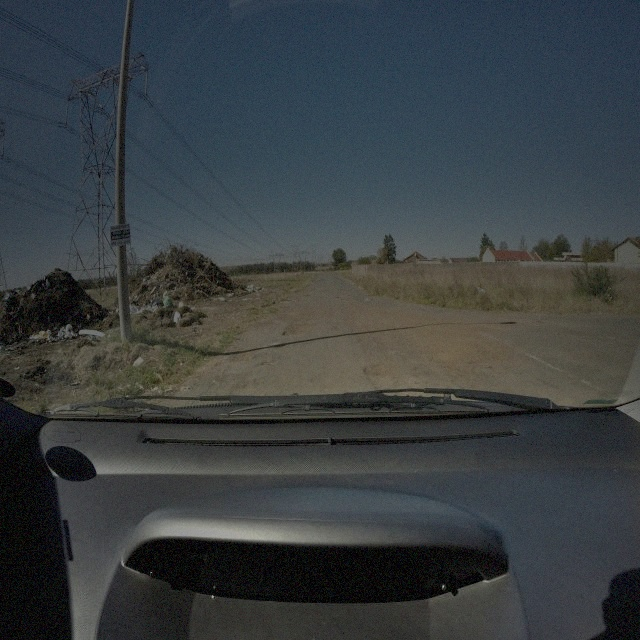pothole: (364, 359, 396, 378), (232, 346, 262, 364), (281, 326, 311, 338)
